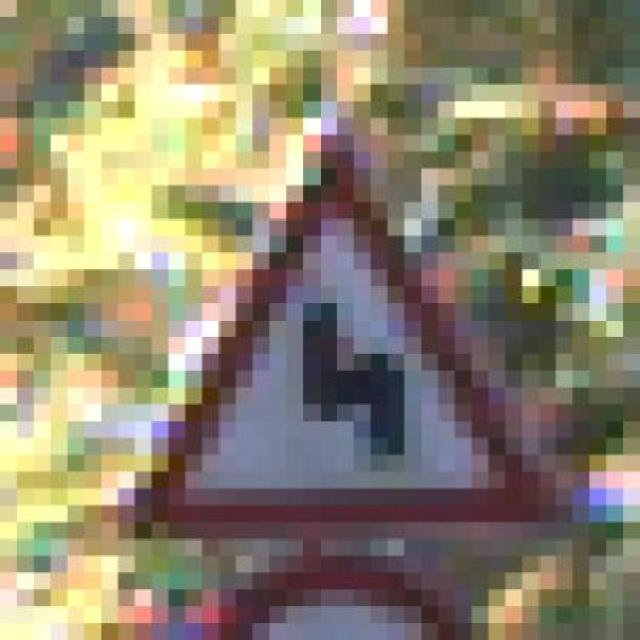Left Zig Zag Traffic: (84, 135, 556, 539)
